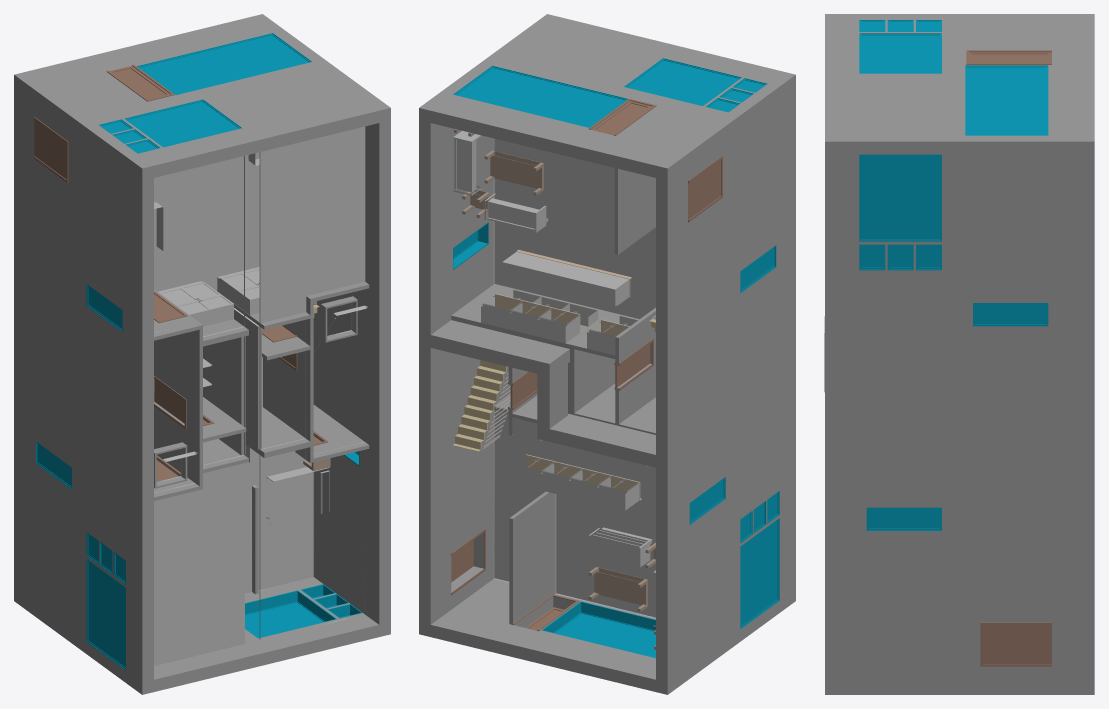
The model's file is architecture.glb.
The picture shows the model from 3 angles, left to right: view 1: azimuth 30°, elevation 25°; view 2: azimuth 150°, elevation 25°; view 3: azimuth 270°, elevation 25°; orthographic projection. The views are drawn at different scales.
Visible parts, largest first — view 1: 2O2Fr$t4X7Zf8NOew3FNhv|IfcWallStandardCase|Basic Wall:Exteri, 2O2Fr$t4X7Zf8NOew3FLPP|IfcWallStandardCase|Basic Wall:Exteri, 3bXiCStxP6Fgxdej$yc554|IfcCovering|Compound Ceiling:Gypsum B, 3bXiCStxP6Fgxdej$yc55k|IfcCovering|Compound Ceiling:Gypsum B, 2O2Fr$t4X7Zf8NOew3FLR9|IfcWallStandardCase|Basic Wall:Exteri, 3bXiCStxP6Fgxdej$yc5T8|IfcCovering|Compound Ceiling:Gypsum B, 0jf0rYHfX3RAB3bSIRjmpw|IfcWallStandardCase|Basic Wall:Exteri, 0jf0rYHfX3RAB3bSIRjmr1|IfcWallStandardCase|Basic Wall:Exteri, 2O2Fr$t4X7Zf8NOew3FKE5|IfcWallStandardCase|Basic Wall:Founda, 3bXiCStxP6Fgxdej$yc50n|IfcCovering|Compound Ceiling:Gypsum B, 2O2Fr$t4X7Zf8NOew3FLQD|IfcWallStandardCase|Basic Wall:Exteri, 2O2Fr$t4X7Zf8NOew3FNtn|IfcWallStandardCase|Basic Wall:Exteri (+33 smaller); view 2: 2O2Fr$t4X7Zf8NOew3FNhv|IfcWallStandardCase|Basic Wall:Exteri, 2O2Fr$t4X7Zf8NOew3FLPP|IfcWallStandardCase|Basic Wall:Exteri, 2O2Fr$t4X7Zf8NOew3FKE5|IfcWallStandardCase|Basic Wall:Founda, 2O2Fr$t4X7Zf8NOew3FK9N|IfcWallStandardCase|Basic Wall:Founda, 3bXiCStxP6Fgxdej$yc5T8|IfcCovering|Compound Ceiling:Gypsum B, 3bXiCStxP6Fgxdej$yc50n|IfcCovering|Compound Ceiling:Gypsum B, 2O2Fr$t4X7Zf8NOew3FNqI|IfcWallStandardCase|Basic Wall:Exteri, 2O2Fr$t4X7Zf8NOew3FK80|IfcWallStandardCase|Basic Wall:Founda, 2O2Fr$t4X7Zf8NOew3FLQD|IfcWallStandardCase|Basic Wall:Exteri, 2O2Fr$t4X7Zf8NOew3FKEr|IfcWallStandardCase|Basic Wall:Founda, 2O2Fr$t4X7Zf8NOew3FNtn|IfcWallStandardCase|Basic Wall:Exteri, 1hOSvn6df7F8_7GcBWlR72|IfcWindow|M_Fixed:4835mm x 2420mm:483 (+44 smaller); view 3: 2O2Fr$t4X7Zf8NOew3FNqI|IfcWallStandardCase|Basic Wall:Exteri, 2O2Fr$t4X7Zf8NOew3FLR9|IfcWallStandardCase|Basic Wall:Exteri, 2O2Fr$t4X7Zf8NOew3FK9N|IfcWallStandardCase|Basic Wall:Founda, 0jf0rYHfX3RAB3bSIRjmpw|IfcWallStandardCase|Basic Wall:Exteri, 2O2Fr$t4X7Zf8NOew3FLQD|IfcWallStandardCase|Basic Wall:Exteri, 2O2Fr$t4X7Zf8NOew3FNtn|IfcWallStandardCase|Basic Wall:Exteri, 1l0GAJtRTFv8$zmKJOH4pU|IfcWindow|M_Fixed:2800mm x 2410mm:280, 2O2Fr$t4X7Zf8NOew3FK80|IfcWallStandardCase|Basic Wall:Founda, 1hOSvn6df7F8_7GcBWlR72|IfcWindow|M_Fixed:4835mm x 2420mm:483, 1hOSvn6df7F8_7GcBWlSXO|IfcWindow|M_Fixed:2800mm x 2410mm:280, 1hOSvn6df7F8_7GcBWlRGQ|IfcDoor|M_Single-Flush:1250mm x 2010m, 0jf0rYHfX3RAB3bSIRjmmy|IfcWallStandardCase|Basic Wall:Exteri (+6 smaller).
Part boxes in pixels (box(x1,y1,x2,y2)): 2O2Fr$t4X7Zf8NOew3FNhv|IfcWallStandardCase|Basic Wall:Exteri: box(34, 102, 84, 640); 2O2Fr$t4X7Zf8NOew3FLPP|IfcWallStandardCase|Basic Wall:Exteri: box(85, 127, 132, 687); 3bXiCStxP6Fgxdej$yc554|IfcCovering|Compound Ceiling:Gypsum B: box(259, 126, 365, 323); 3bXiCStxP6Fgxdej$yc55k|IfcCovering|Compound Ceiling:Gypsum B: box(154, 463, 244, 665); 2O2Fr$t4X7Zf8NOew3FLR9|IfcWallStandardCase|Basic Wall:Exteri: box(322, 125, 369, 617); 3bXiCStxP6Fgxdej$yc5T8|IfcCovering|Compound Ceiling:Gypsum B: box(154, 152, 259, 291); 0jf0rYHfX3RAB3bSIRjmpw|IfcWallStandardCase|Basic Wall:Exteri: box(369, 120, 390, 636); 0jf0rYHfX3RAB3bSIRjmr1|IfcWallStandardCase|Basic Wall:Exteri: box(132, 174, 153, 682); 2O2Fr$t4X7Zf8NOew3FKE5|IfcWallStandardCase|Basic Wall:Founda: box(14, 87, 34, 603); 3bXiCStxP6Fgxdej$yc50n|IfcCovering|Compound Ceiling:Gypsum B: box(245, 357, 314, 594); 2O2Fr$t4X7Zf8NOew3FLQD|IfcWallStandardCase|Basic Wall:Exteri: box(85, 66, 380, 160); 2O2Fr$t4X7Zf8NOew3FNtn|IfcWallStandardCase|Basic Wall:Exteri: box(34, 29, 333, 138); 2O2Fr$t4X7Zf8NOew3FNhv|IfcWallStandardCase|Basic Wall:Exteri: box(688, 129, 738, 667); 2O2Fr$t4X7Zf8NOew3FLPP|IfcWallStandardCase|Basic Wall:Exteri: box(738, 82, 785, 642); 2O2Fr$t4X7Zf8NOew3FKE5|IfcWallStandardCase|Basic Wall:Founda: box(656, 166, 687, 682); 2O2Fr$t4X7Zf8NOew3FK9N|IfcWallStandardCase|Basic Wall:Founda: box(419, 120, 451, 636); 3bXiCStxP6Fgxdej$yc5T8|IfcCovering|Compound Ceiling:Gypsum B: box(493, 138, 655, 319); 3bXiCStxP6Fgxdej$yc50n|IfcCovering|Compound Ceiling:Gypsum B: box(493, 407, 655, 618); 2O2Fr$t4X7Zf8NOew3FNqI|IfcWallStandardCase|Basic Wall:Exteri: box(451, 128, 501, 609); 2O2Fr$t4X7Zf8NOew3FK80|IfcWallStandardCase|Basic Wall:Founda: box(419, 93, 687, 180); 2O2Fr$t4X7Zf8NOew3FLQD|IfcWallStandardCase|Basic Wall:Exteri: box(490, 21, 785, 116); 2O2Fr$t4X7Zf8NOew3FKEr|IfcWallStandardCase|Basic Wall:Founda: box(430, 610, 687, 694); 2O2Fr$t4X7Zf8NOew3FNtn|IfcWallStandardCase|Basic Wall:Exteri: box(440, 56, 738, 165); 1hOSvn6df7F8_7GcBWlR72|IfcWindow|M_Fixed:4835mm x 2420mm:483: box(453, 66, 628, 127); 2O2Fr$t4X7Zf8NOew3FNqI|IfcWallStandardCase|Basic Wall:Exteri: box(945, 154, 1051, 694); 2O2Fr$t4X7Zf8NOew3FLR9|IfcWallStandardCase|Basic Wall:Exteri: box(846, 141, 945, 694); 2O2Fr$t4X7Zf8NOew3FK9N|IfcWallStandardCase|Basic Wall:Founda: box(1052, 154, 1094, 694); 0jf0rYHfX3RAB3bSIRjmpw|IfcWallStandardCase|Basic Wall:Exteri: box(825, 154, 845, 694); 2O2Fr$t4X7Zf8NOew3FLQD|IfcWallStandardCase|Basic Wall:Exteri: box(846, 14, 945, 141); 2O2Fr$t4X7Zf8NOew3FNtn|IfcWallStandardCase|Basic Wall:Exteri: box(945, 14, 1051, 154); 1l0GAJtRTFv8$zmKJOH4pU|IfcWindow|M_Fixed:2800mm x 2410mm:280: box(859, 154, 941, 241); 2O2Fr$t4X7Zf8NOew3FK80|IfcWallStandardCase|Basic Wall:Founda: box(1052, 14, 1094, 154); 1hOSvn6df7F8_7GcBWlR72|IfcWindow|M_Fixed:4835mm x 2420mm:483: box(965, 65, 1048, 135); 1hOSvn6df7F8_7GcBWlSXO|IfcWindow|M_Fixed:2800mm x 2410mm:280: box(859, 33, 941, 73); 1hOSvn6df7F8_7GcBWlRGQ|IfcDoor|M_Single-Flush:1250mm x 2010m: box(980, 622, 1051, 666); 0jf0rYHfX3RAB3bSIRjmmy|IfcWallStandardCase|Basic Wall:Exteri: box(825, 14, 845, 154).
Size of the model in its own units: 8.85 by 17.85 by 7.88.
